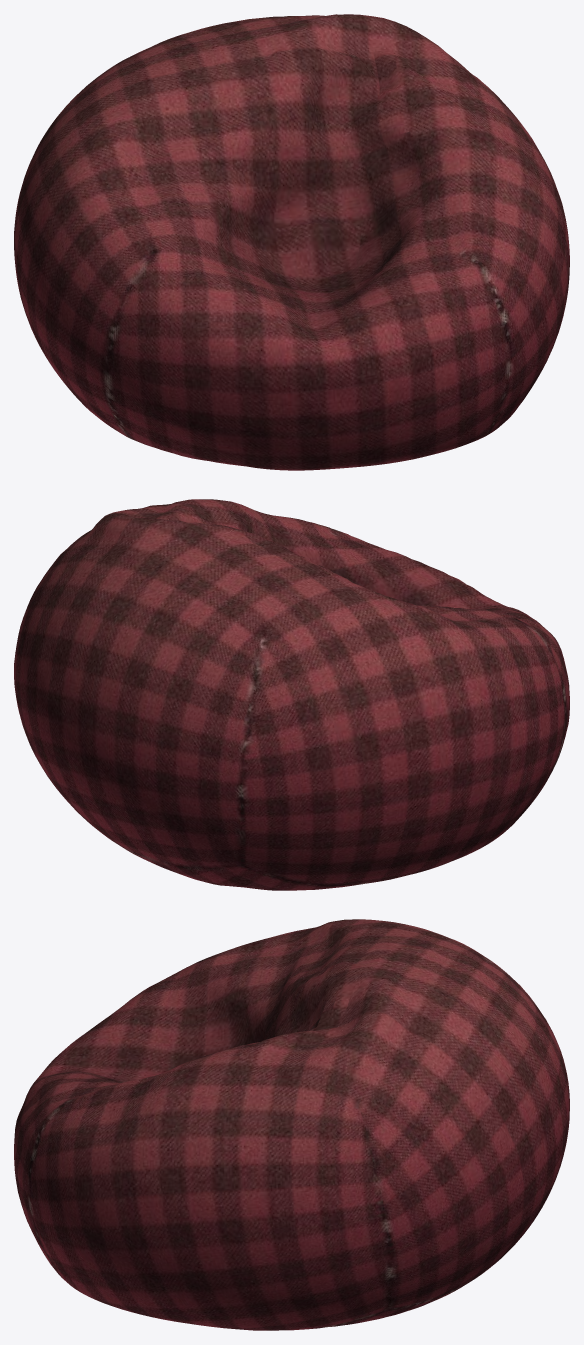
The picture shows the model from 3 angles, top to bottom: view 1: azimuth 30°, elevation 25°; view 2: azimuth 150°, elevation 25°; view 3: azimuth 270°, elevation 25°; orthographic projection.
Parts seen in each view (by area): view 1: Cube; view 2: Cube; view 3: Cube.
Boxes of the visible parts, bbox=[...] form: Cube: bbox=[14, 14, 569, 470]; Cube: bbox=[14, 499, 569, 890]; Cube: bbox=[14, 919, 569, 1330].
Bounding box in the file's own units: 0.851 × 0.5089 × 0.8569.
Materials: 1 (1 with a texture image).
